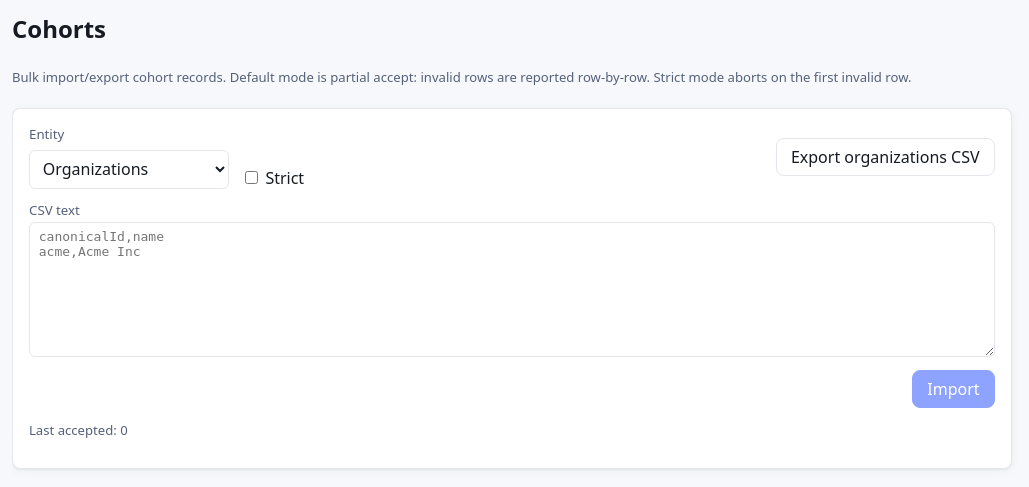
Scenario: CohortsPanel component › renders the export button labelled with the active entity
The width and height of the screenshot is (1029, 487).
Expected: the button "Export organizations CSV" is shown, top-left (776, 138), bottom-right (995, 176)
Select "Programs" in the dropdown at (129, 169), box top-left (29, 150), bottom-right (229, 189)
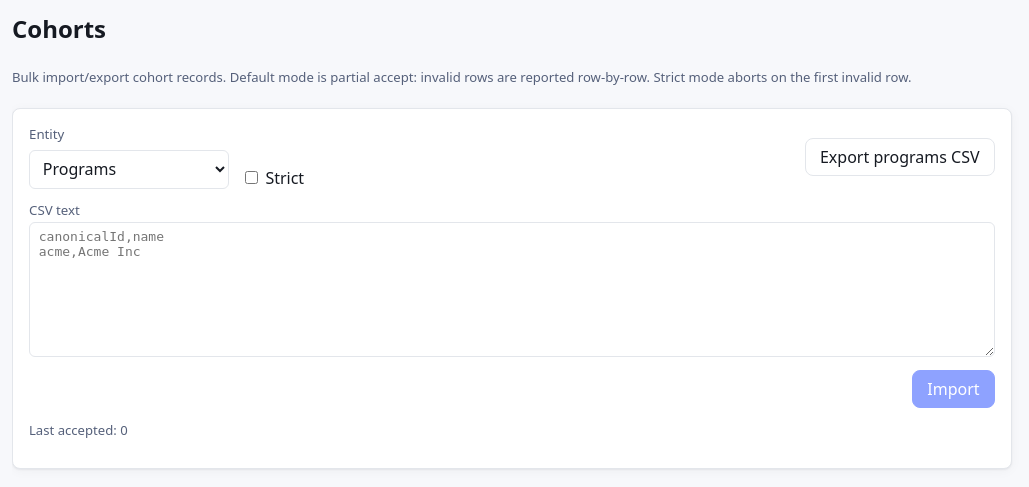
Expected: the button "Export programs CSV" is shown, top-left (805, 138), bottom-right (995, 176)
